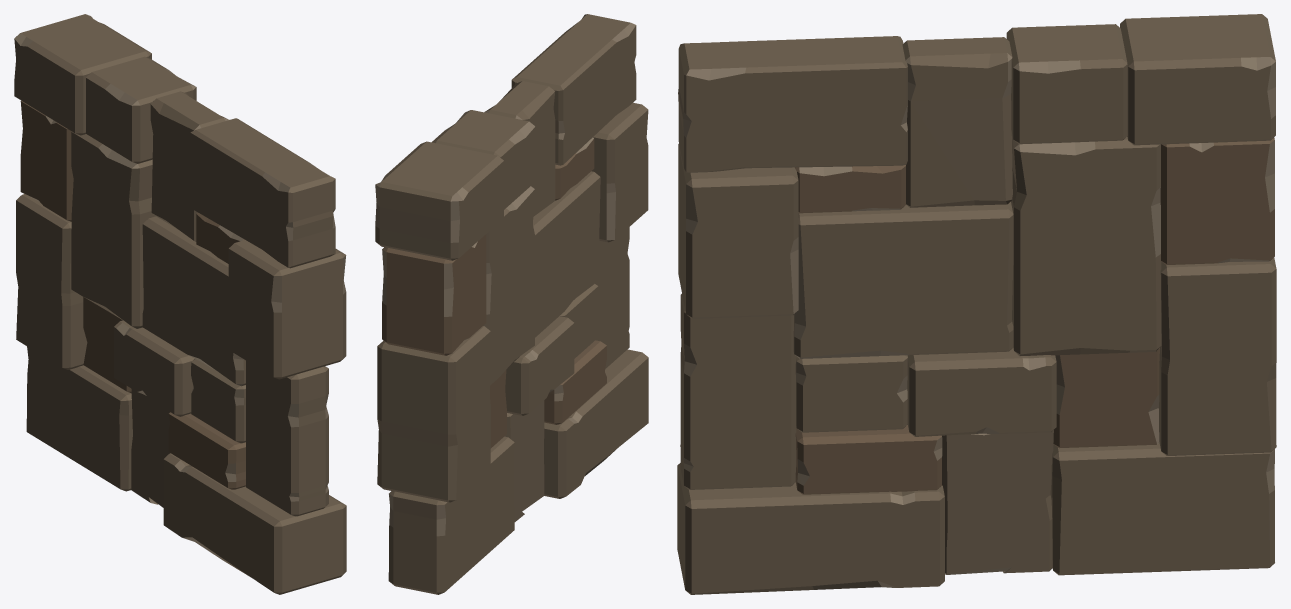
The model's file is chamber_wall_east_6_lev3.glb.
3 views of the same model, side by side, from view 1: azimuth 30°, elevation 25°; view 2: azimuth 150°, elevation 25°; view 3: azimuth 270°, elevation 25° (orthographic). The views are drawn at different scales.
Parts seen in each view (by area): view 1: chamber_wall_east_6_lev3; view 2: chamber_wall_east_6_lev3; view 3: chamber_wall_east_6_lev3.
Part boxes in pixels (x1,y1,x2,y2): chamber_wall_east_6_lev3: (14, 14, 346, 594); chamber_wall_east_6_lev3: (375, 14, 648, 594); chamber_wall_east_6_lev3: (677, 14, 1276, 594).
Size of the model in its own units: 1.69 by 5.94 by 6.2.
